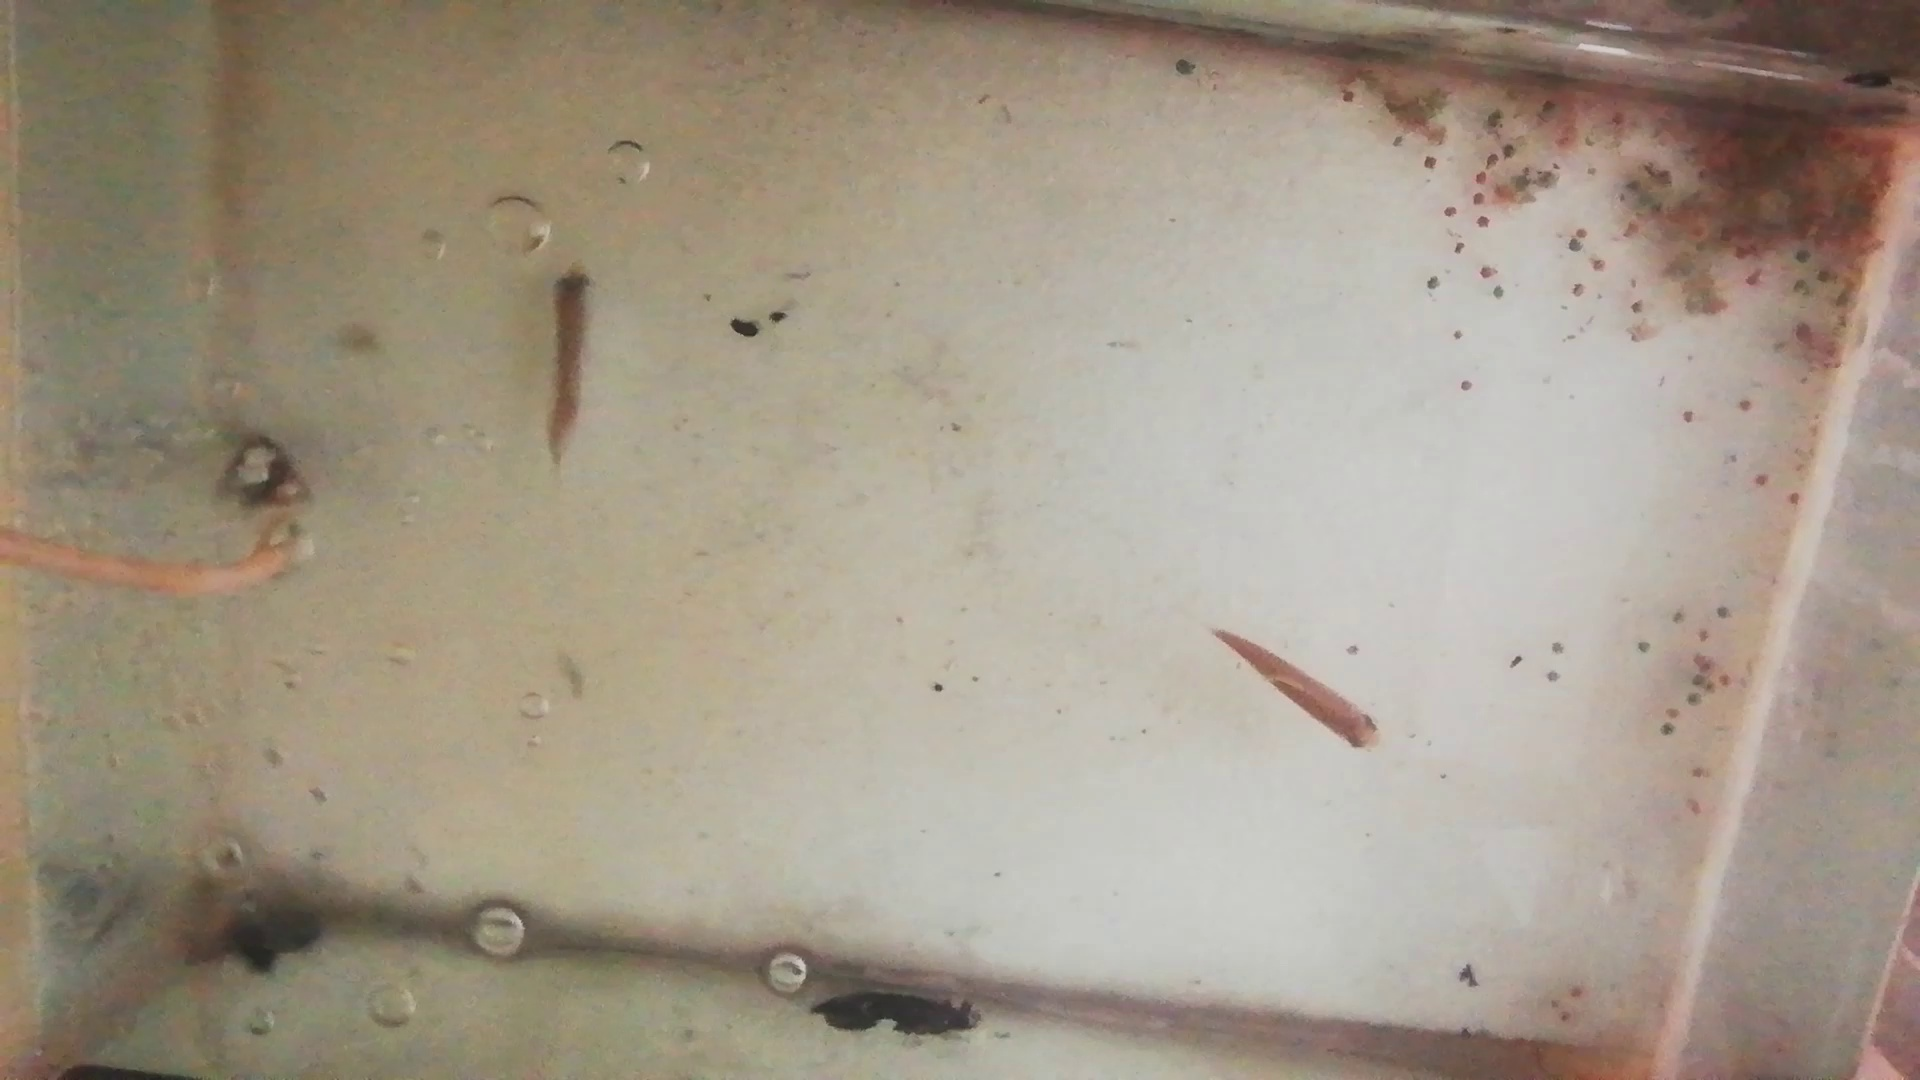fish: (1215, 632, 1383, 756), (546, 262, 597, 464)
